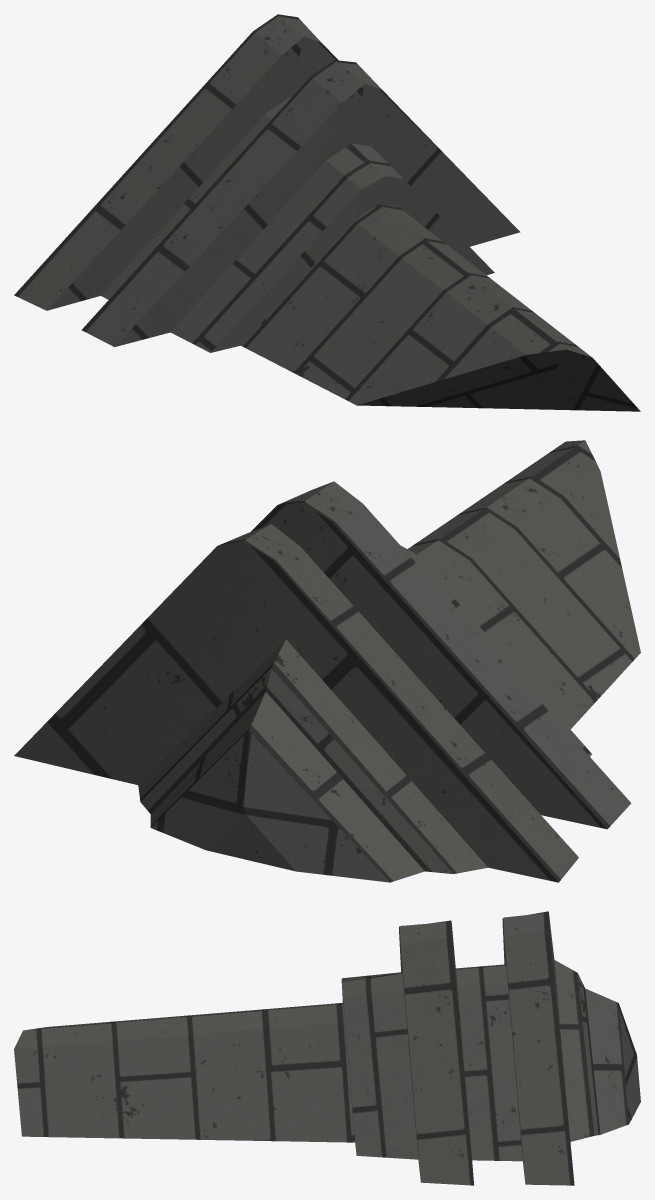
File: Pillar_Broken_A_UV.fbx
3 renders of one model, top to bottom at view 1: azimuth 30°, elevation 25°; view 2: azimuth 150°, elevation 25°; view 3: azimuth 270°, elevation 25°, orthographic. The views are drawn at different scales.
Parts seen in each view (by area): view 1: Pillar_Broken_A; view 2: Pillar_Broken_A; view 3: Pillar_Broken_A.
Part boxes in pixels (<box>): Pillar_Broken_A: <box>14,14,640,411</box>; Pillar_Broken_A: <box>14,440,640,882</box>; Pillar_Broken_A: <box>14,911,640,1185</box>.
Bounding box in the file's own units: 44.07 × 20.82 × 59.01.
